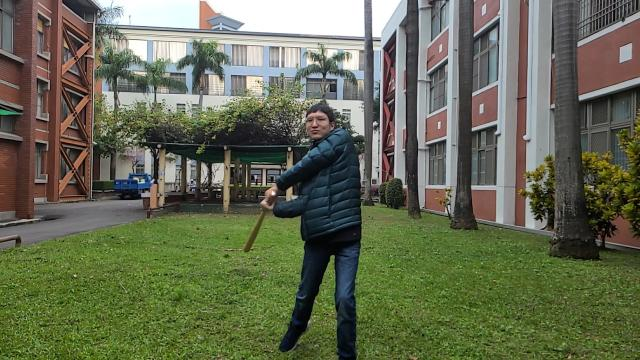bat: (242, 210, 272, 254)
